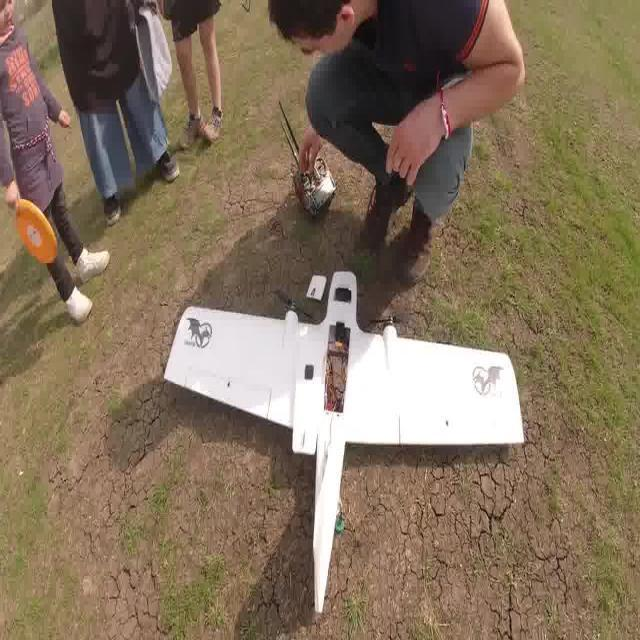iha: (162, 264, 530, 620)
